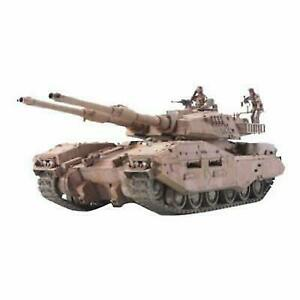Battle Tank: (31, 91, 287, 218)
